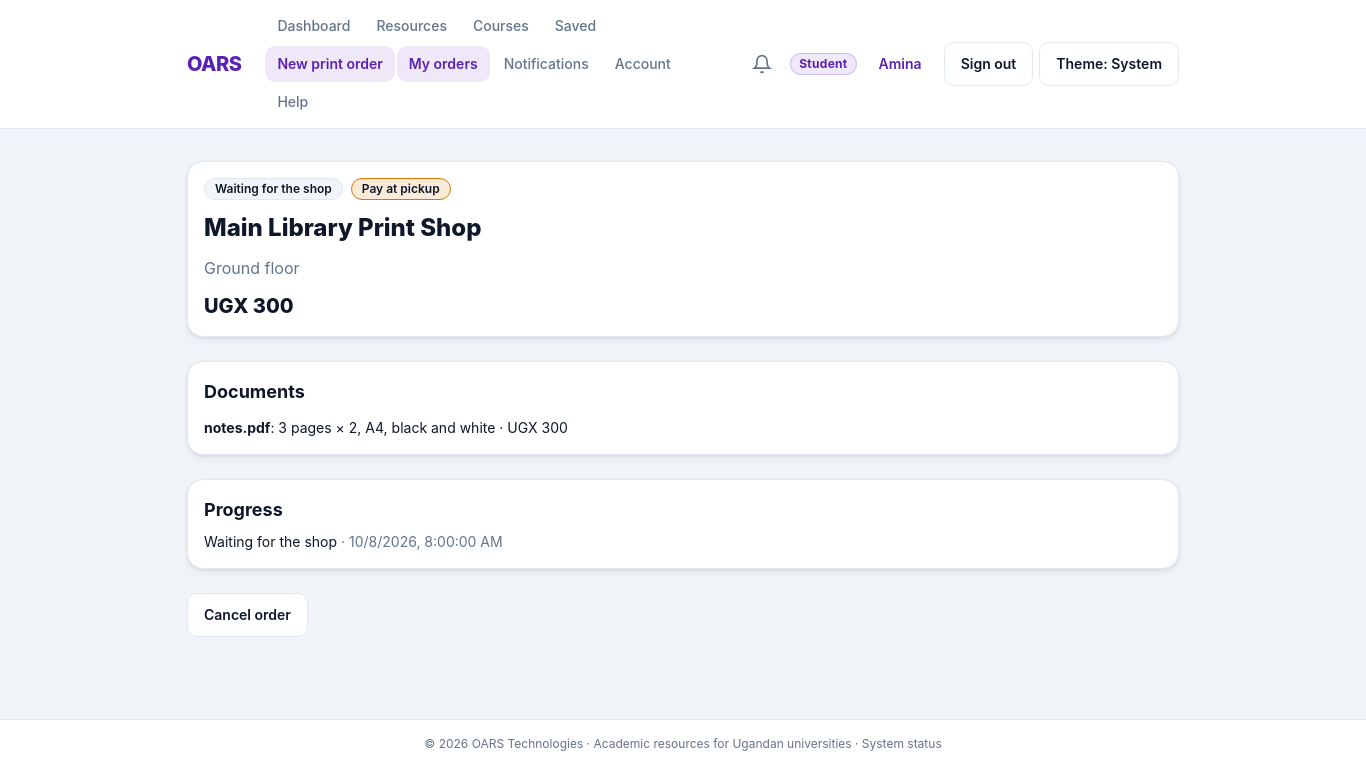
PrintOrderPage › asks for confirmation before cancelling, then shows the updated order
The width and height of the screenshot is (1366, 768).
What coordinates should you click on to do the following:
click the button "Cancel order"
I would click on:
 (247, 615)
Its box is top-left (187, 593), bottom-right (308, 637).
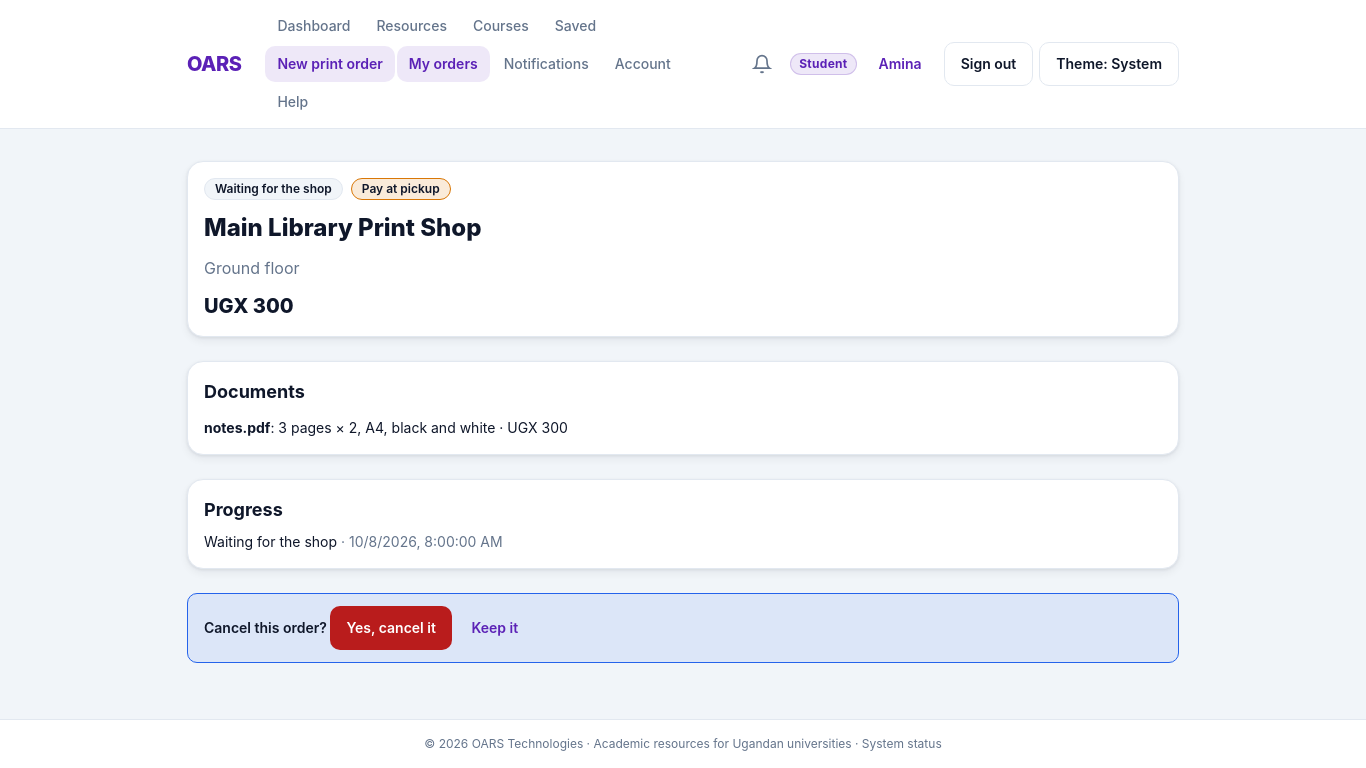
What coordinates should you click on to do the following:
click the button "Yes, cancel it"
I would click on:
 (391, 628)
Its box is top-left (330, 606), bottom-right (452, 650).
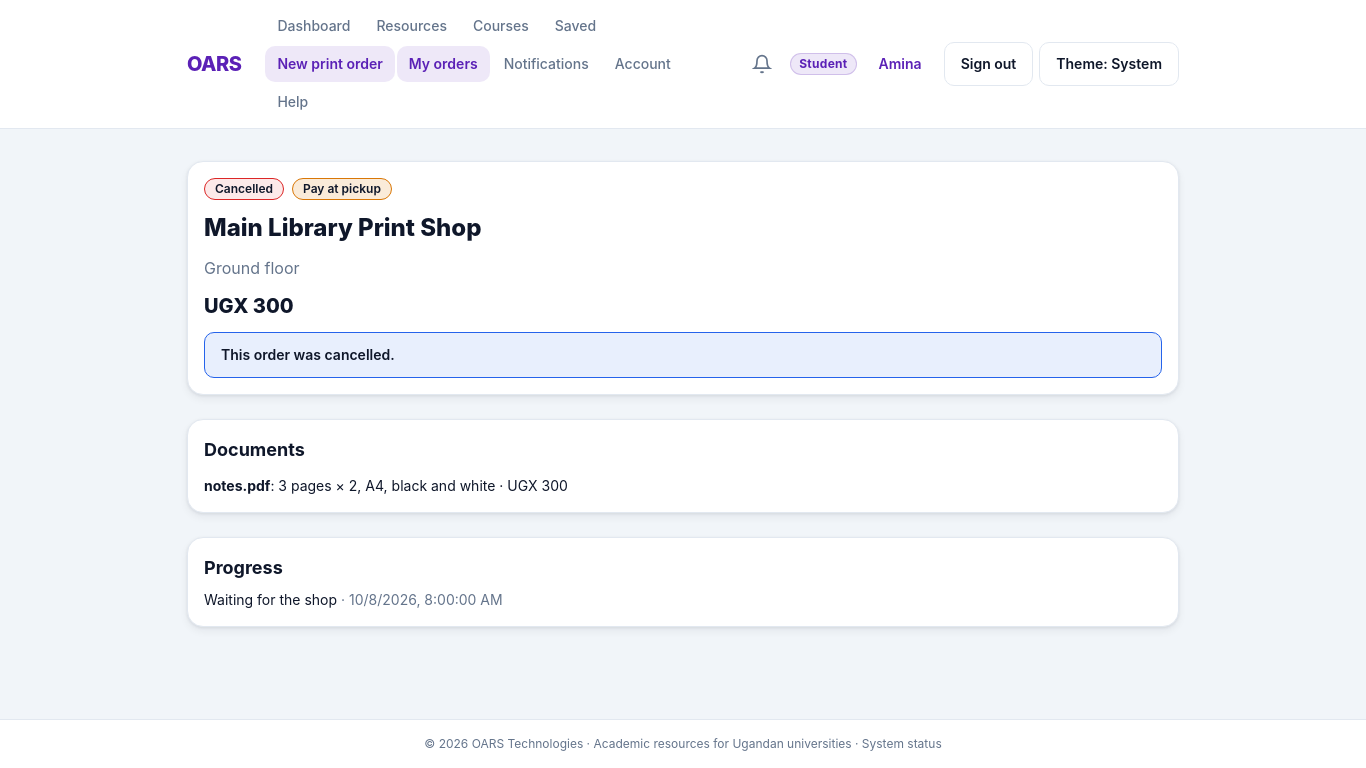
Result: the text "This order was cancelled." is shown at top-left (204, 332), bottom-right (1162, 378)
